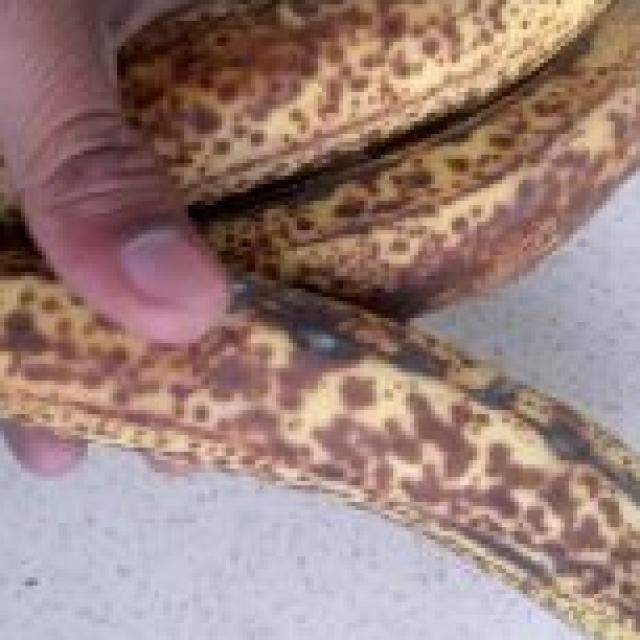Bad_Banana-0 day: (0, 0, 640, 640)
